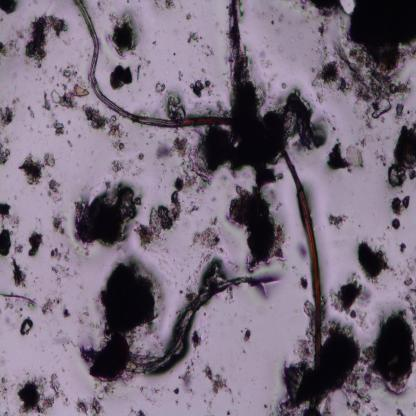Air bubble: (340, 0, 356, 16)
Background material: (198, 1, 326, 186), (79, 257, 159, 382), (314, 42, 412, 121), (72, 177, 144, 247), (348, 0, 416, 73), (230, 184, 287, 270), (322, 322, 373, 410), (277, 298, 314, 414), (369, 306, 416, 393), (134, 177, 185, 248), (170, 132, 213, 192), (24, 14, 70, 64), (328, 272, 370, 325), (80, 105, 124, 153), (19, 370, 63, 414), (388, 122, 416, 189), (105, 10, 139, 58), (356, 240, 395, 280), (18, 150, 56, 186), (328, 140, 367, 172), (156, 82, 186, 122), (48, 80, 89, 106), (202, 367, 233, 400), (201, 259, 226, 294), (52, 242, 72, 285), (191, 225, 222, 252), (41, 292, 70, 320), (0, 30, 25, 61), (109, 62, 135, 91), (0, 289, 36, 309), (402, 273, 416, 322), (0, 95, 19, 128), (308, 1, 342, 19), (150, 144, 178, 165), (76, 394, 104, 415), (390, 192, 411, 218), (10, 256, 26, 290), (182, 361, 198, 394), (190, 74, 210, 99), (0, 227, 16, 258), (26, 229, 43, 258), (326, 210, 350, 229), (99, 380, 122, 399), (46, 178, 62, 204), (19, 312, 35, 337), (51, 211, 67, 236), (197, 38, 214, 60), (25, 103, 42, 124), (58, 65, 78, 81), (112, 154, 128, 174), (192, 330, 204, 356), (0, 137, 10, 168), (0, 0, 19, 14), (0, 201, 12, 221), (296, 274, 309, 292), (296, 241, 308, 260), (52, 119, 65, 136), (42, 90, 52, 111), (164, 0, 179, 14), (186, 31, 200, 45), (242, 328, 253, 344), (134, 62, 142, 82), (135, 148, 146, 160), (399, 241, 408, 254), (391, 218, 400, 230), (395, 406, 405, 416), (171, 386, 182, 394), (67, 137, 73, 146)
Cellulose filter fibre: (130, 276, 263, 374)
Microfibre: (74, 0, 324, 415)
